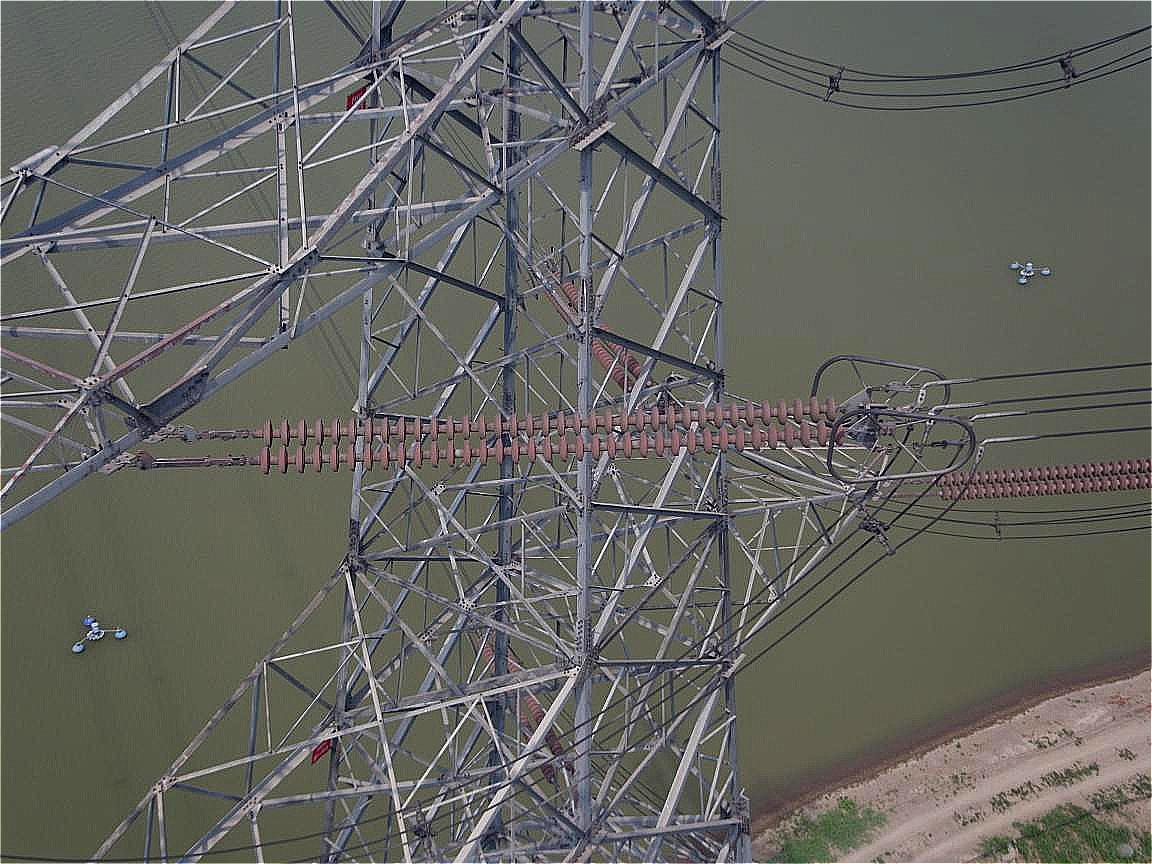insultor1: (256, 394, 849, 471)
